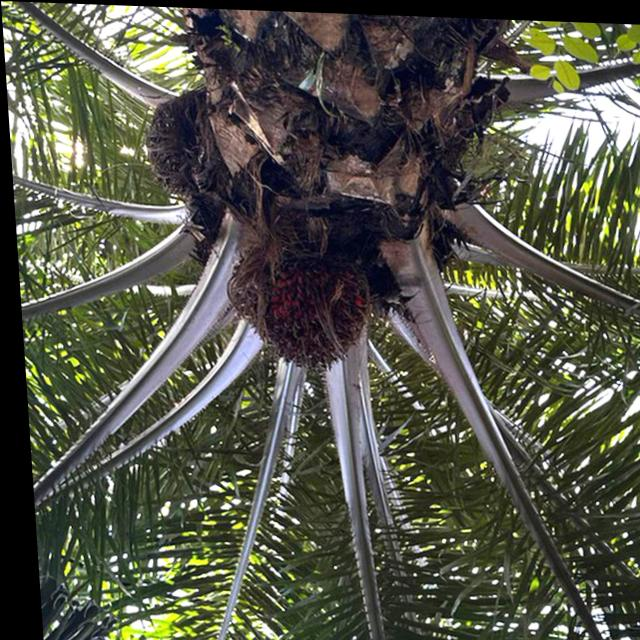ripe: (237, 247, 366, 378)
